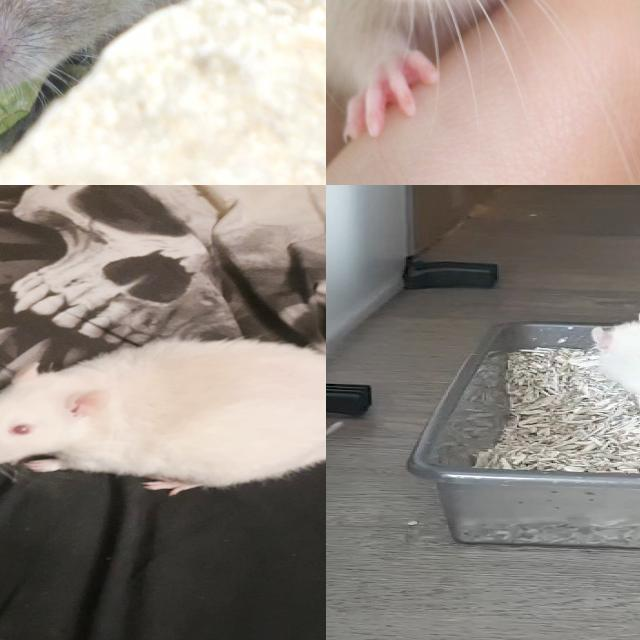rat: (0, 338, 326, 493), (326, 0, 640, 134), (0, 0, 304, 86)
